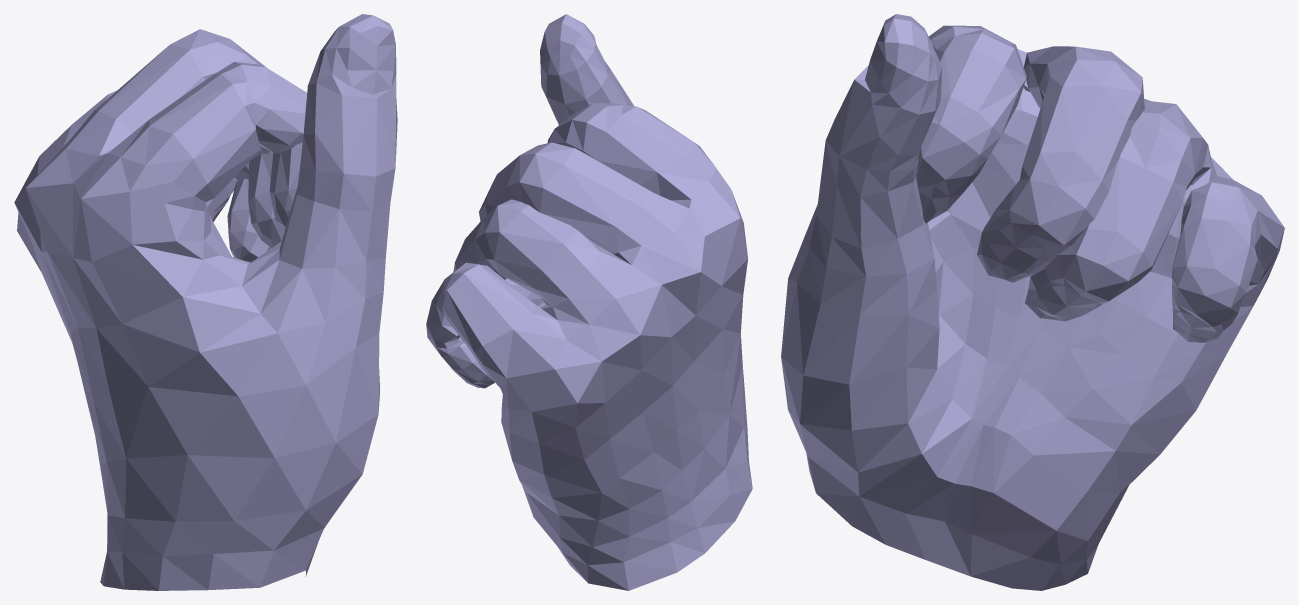
The model's file is frame_0083_source_000083_hand.glb.
3 renders of one model, left to right at view 1: azimuth 30°, elevation 25°; view 2: azimuth 150°, elevation 25°; view 3: azimuth 270°, elevation 25°, orthographic. The views are drawn at different scales.
Visible parts, largest first — view 1: world; view 2: world; view 3: world.
Boxes of the visible parts, x1,y1,x2,y2 form: world: [14, 14, 397, 590]; world: [426, 14, 752, 590]; world: [781, 14, 1284, 590].
Size of the model in its own units: 0.0626 by 0.1236 by 0.0916.
